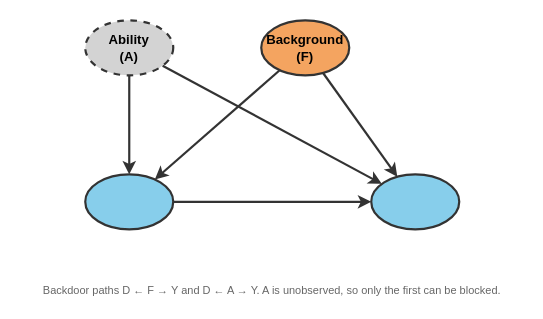
Some shapes in this 543 by 319 pixel diagram are drawn without their labels. The shapes that lost their labels are listed below. From the top down, each one's box as (x1, y1, x2, y2) in pixels, then its label:
(84, 173, 174, 230): Education (D)
(370, 173, 460, 230): Earnings (Y)
